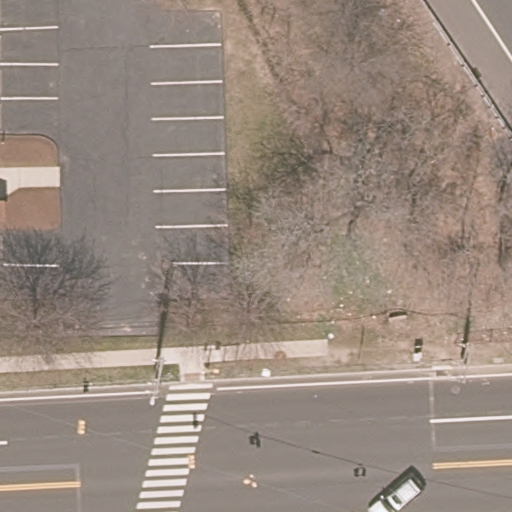DT: (147, 358, 166, 407)
